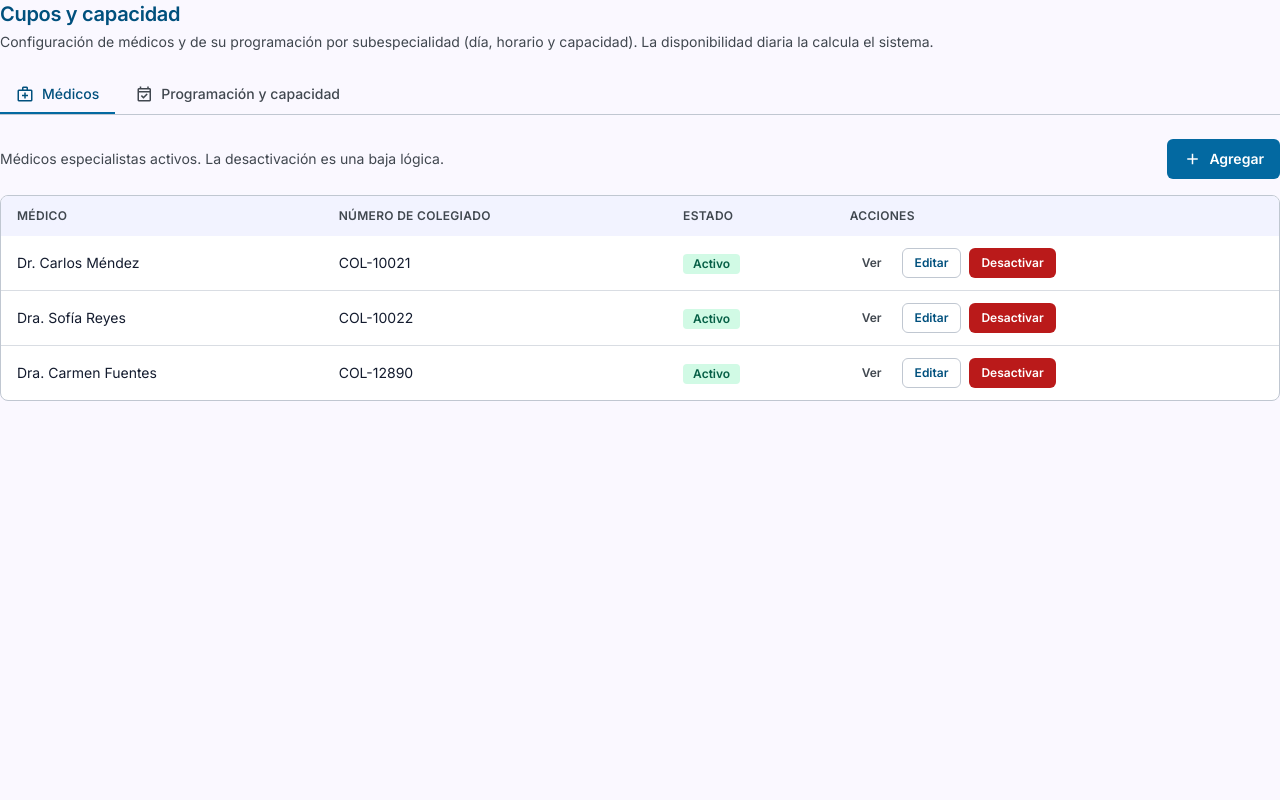
Test: CuposPage › valida que el nombre y el colegiado sean obligatorios
Step 1. Click the button "Agregar" → (1224, 159), box 1167,139 -> 1279,179
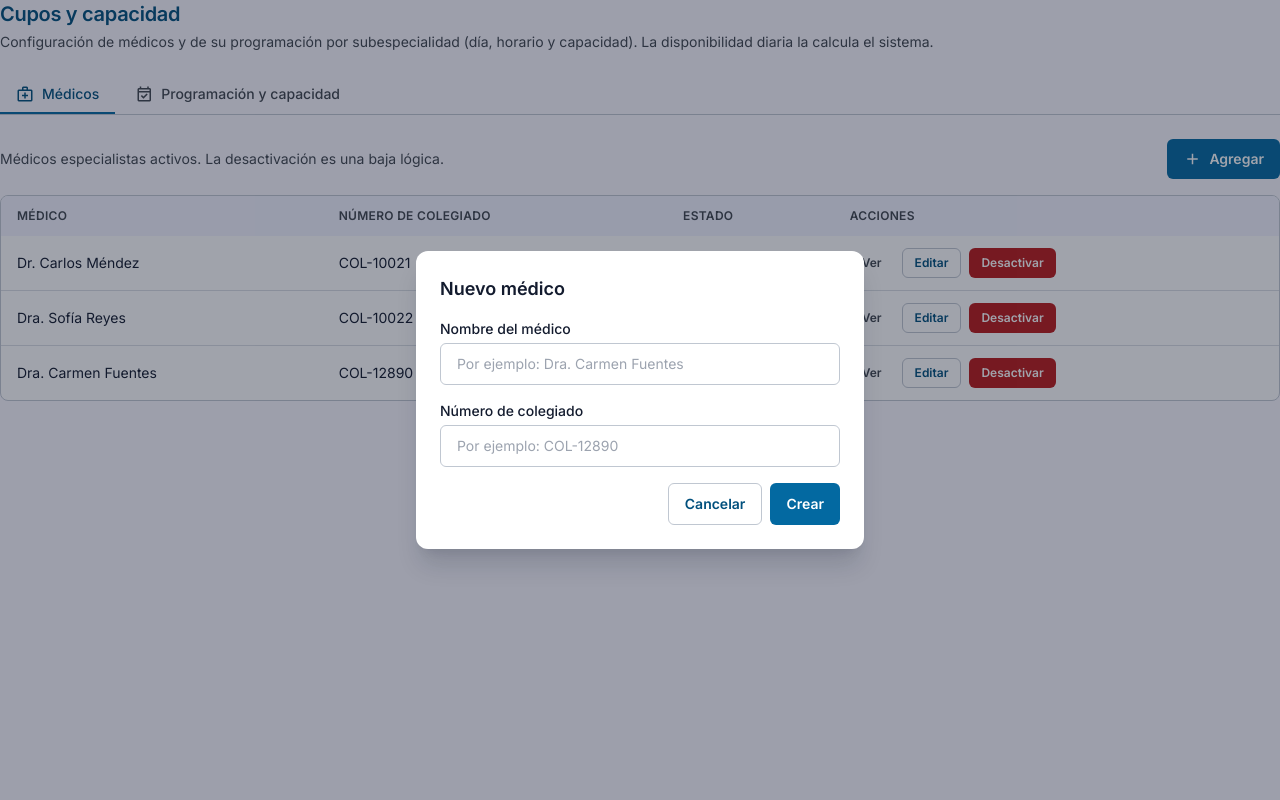
Step 2. Click the button "Crear" → (805, 504), box 770,483 -> 840,525
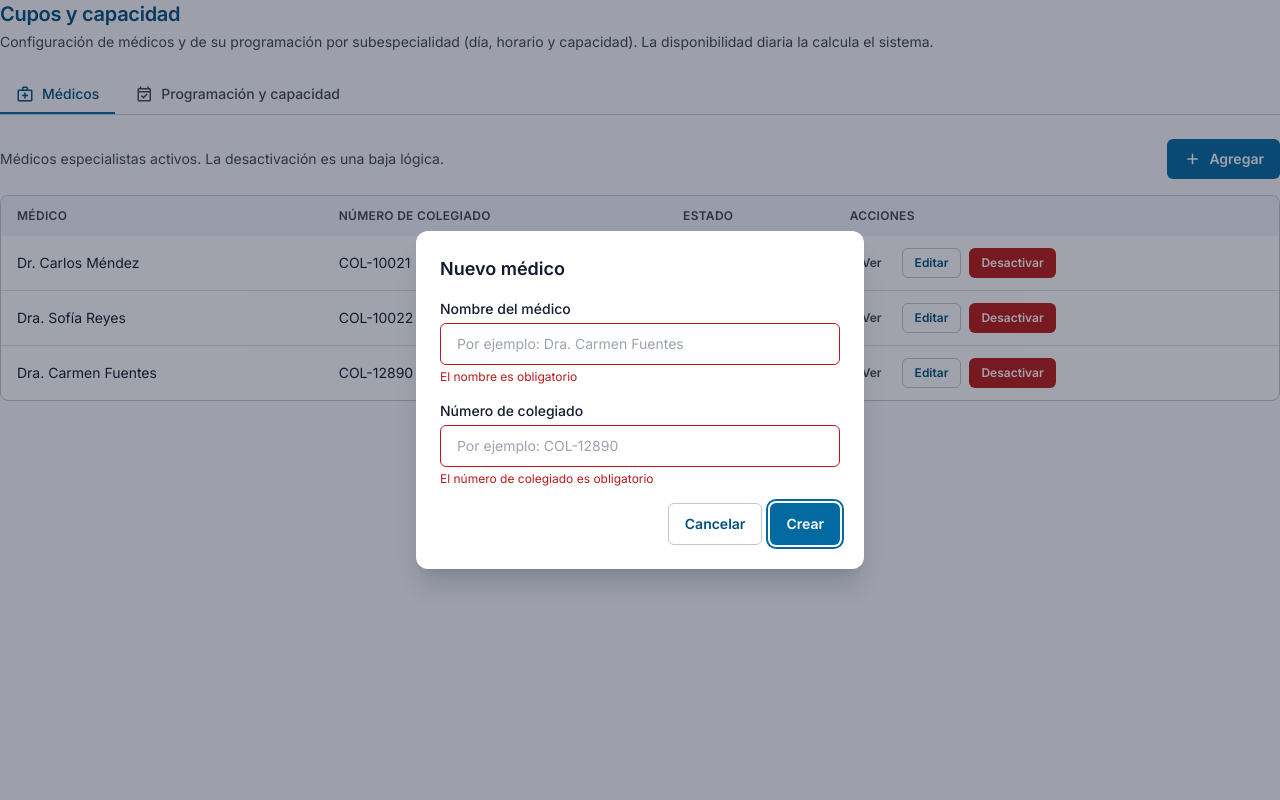
Check: the text "El nombre es obligatorio" is shown, box 440,369 -> 577,384
Check: the text "El número de colegiado es obligatorio" is shown, box 440,471 -> 654,486
